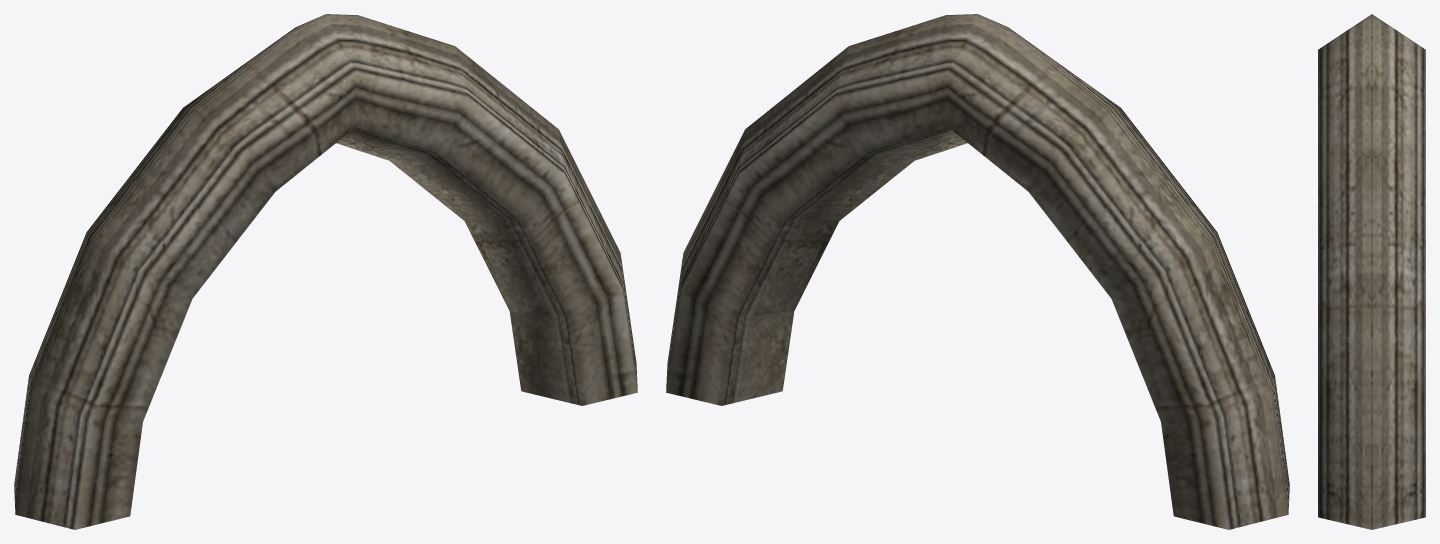
The model's file is SM_Plains_ArchArch.FBX.
3 renders of one model, left to right at view 1: azimuth 30°, elevation 25°; view 2: azimuth 150°, elevation 25°; view 3: azimuth 270°, elevation 25°, orthographic. The views are drawn at different scales.
Parts seen in each view (by area): view 1: SM_Plains_ArchArch; view 2: SM_Plains_ArchArch; view 3: SM_Plains_ArchArch.
Boxes of the visible parts, x1=… form: SM_Plains_ArchArch: x1=14, y1=14, x2=637, y2=529; SM_Plains_ArchArch: x1=666, y1=14, x2=1289, y2=529; SM_Plains_ArchArch: x1=1318, y1=14, x2=1425, y2=529.
Size of the model in its own units: 101 by 65.75 by 17.09.
